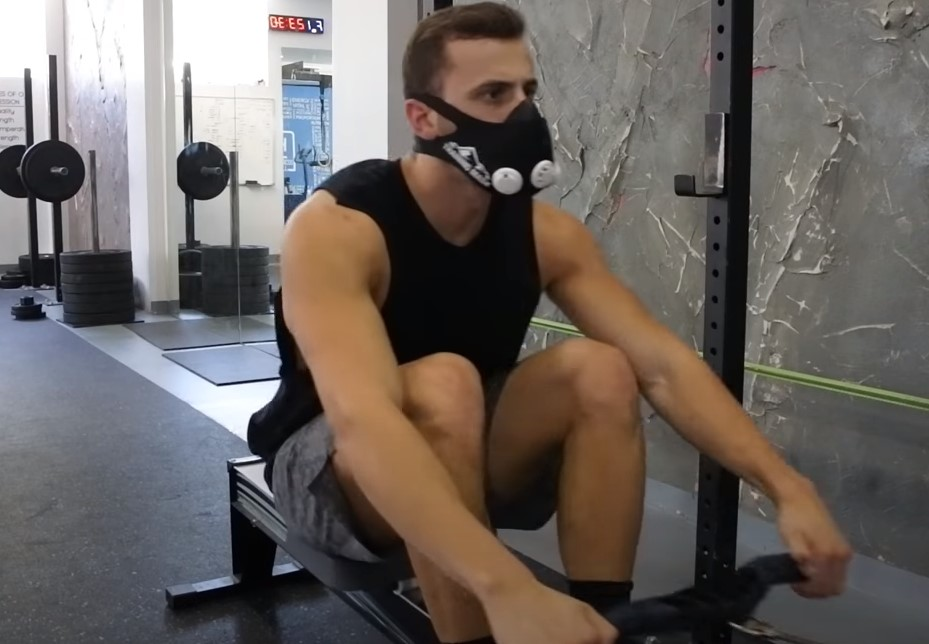face_with_mask: (404, 12, 556, 202)
